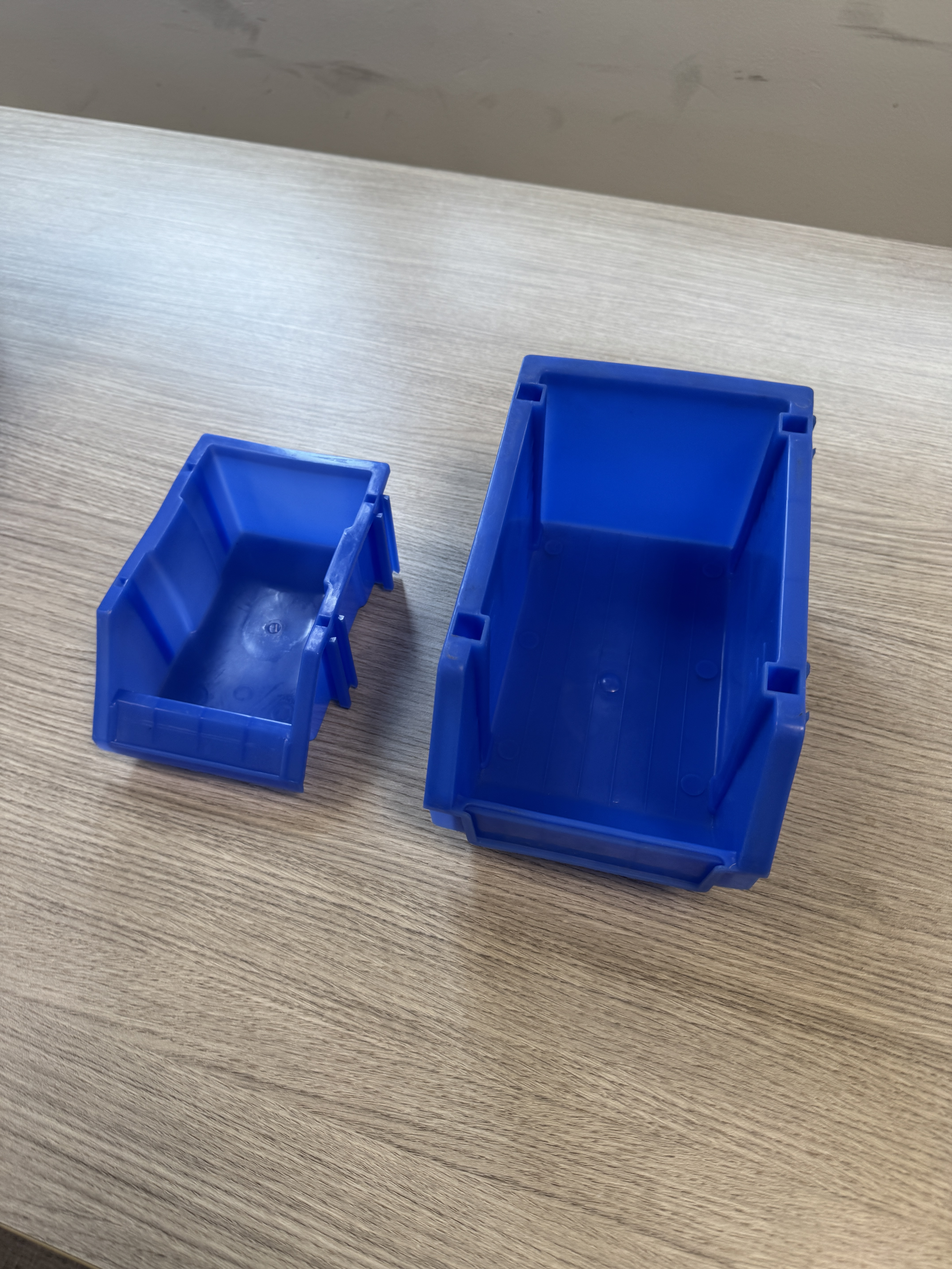Bin Boundary: (442, 349, 837, 858), (100, 431, 374, 733)
